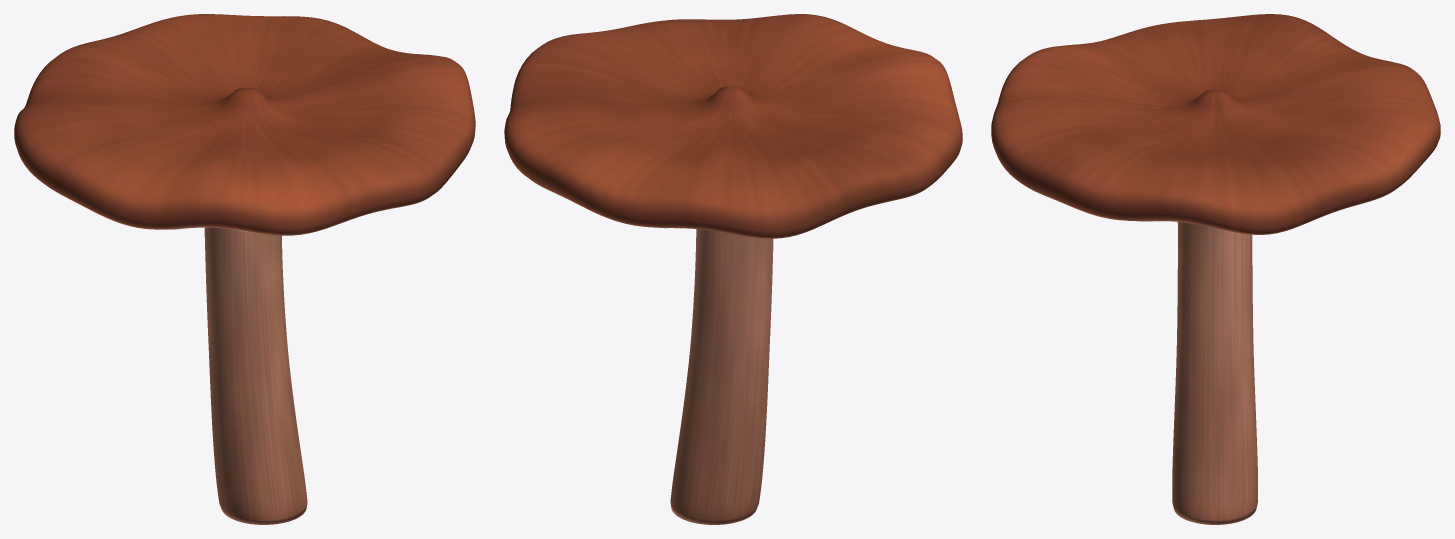
File: lactarius-rufus-drawn.glb
The picture shows the model from 3 angles, left to right: view 1: azimuth 30°, elevation 25°; view 2: azimuth 150°, elevation 25°; view 3: azimuth 270°, elevation 25°; orthographic projection. The views are drawn at different scales.
Bounding box in the file's own units: 0.7684 × 0.755 × 0.7536.
Materials: 1 (1 with a texture image).
